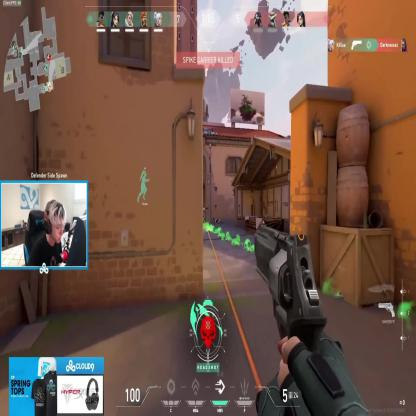enemy: (200, 204, 206, 226)
enemy_head: (202, 204, 204, 209)
